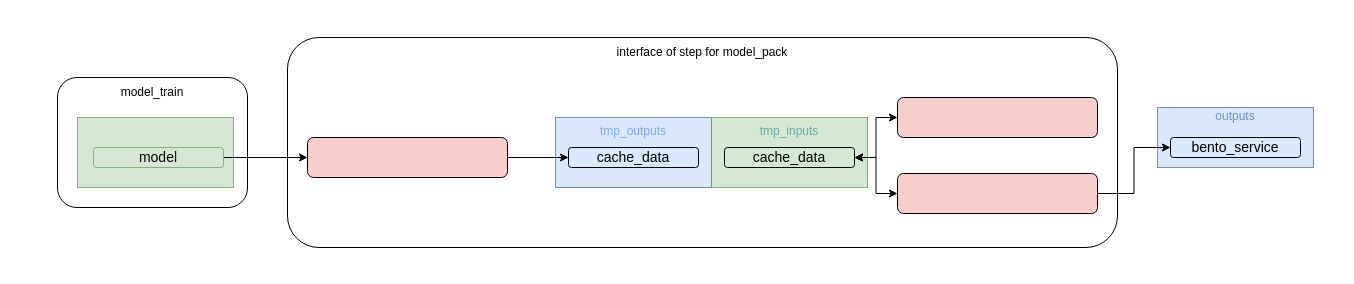
The diagram is 1354 pixels wide and 284 high, and some of its shapes have lost their labels. The box of each missing label's shape, as (x1, y1, x2, y2) in pixels:
0_configure_pack. jpynb: (306, 136, 508, 178)
1_export_onnx.jpynb: (896, 96, 1098, 138)
2_pack_bento.jpynb: (896, 172, 1098, 214)
inputs: (76, 116, 234, 188)
